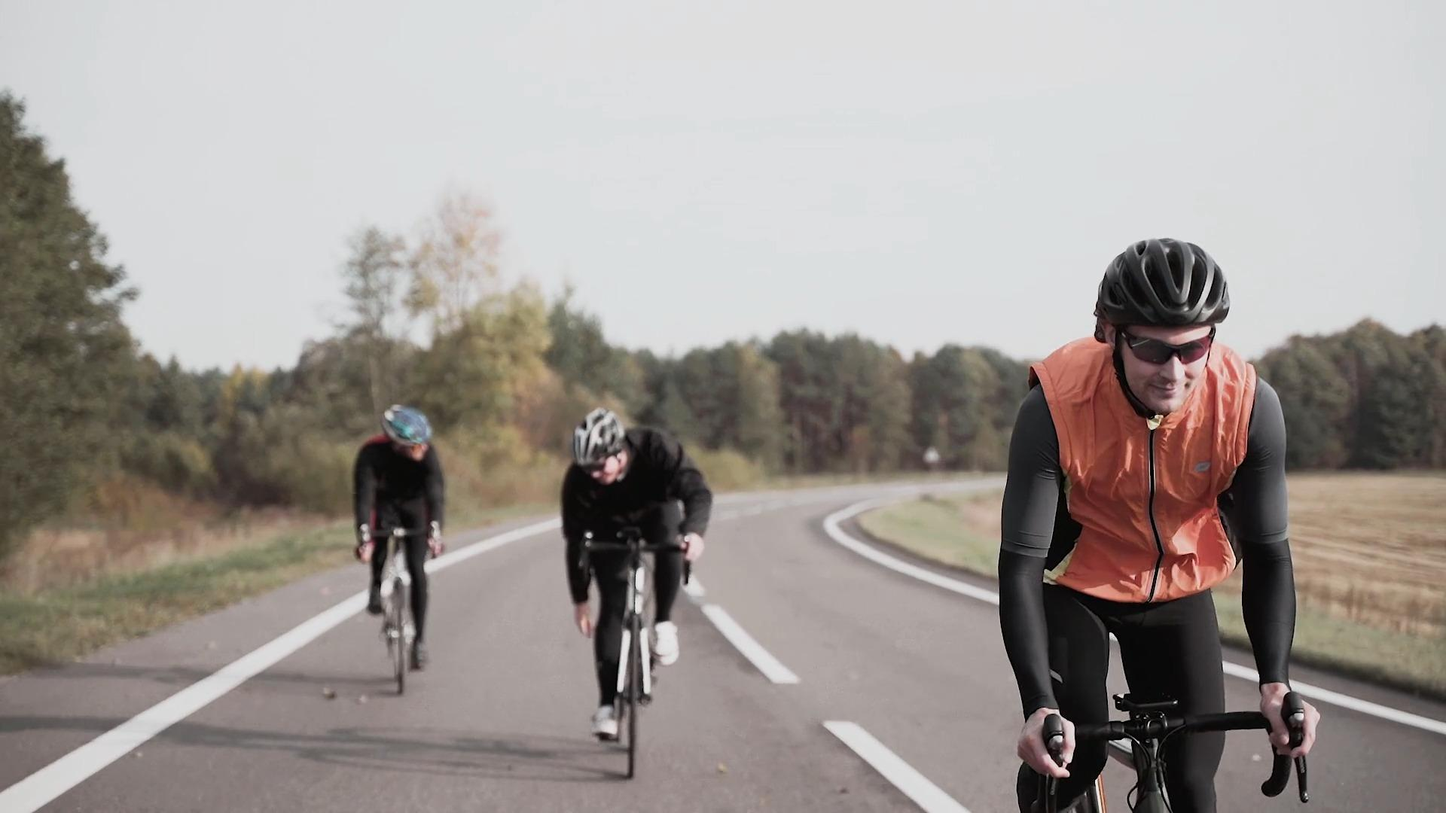bicyclist: (997, 238, 1325, 813), (560, 405, 715, 780), (352, 405, 445, 696)
helmet: (1091, 236, 1231, 421), (571, 405, 627, 488), (380, 405, 433, 462)
